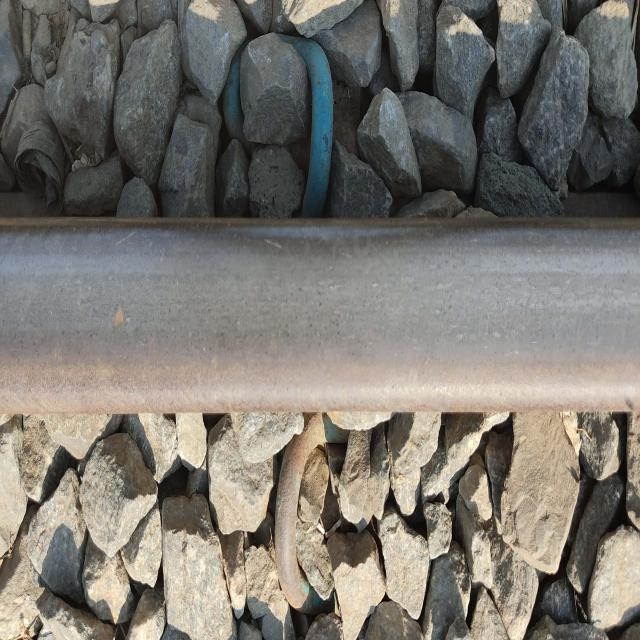Good Fasteners: (223, 33, 333, 216), (276, 413, 324, 608)
